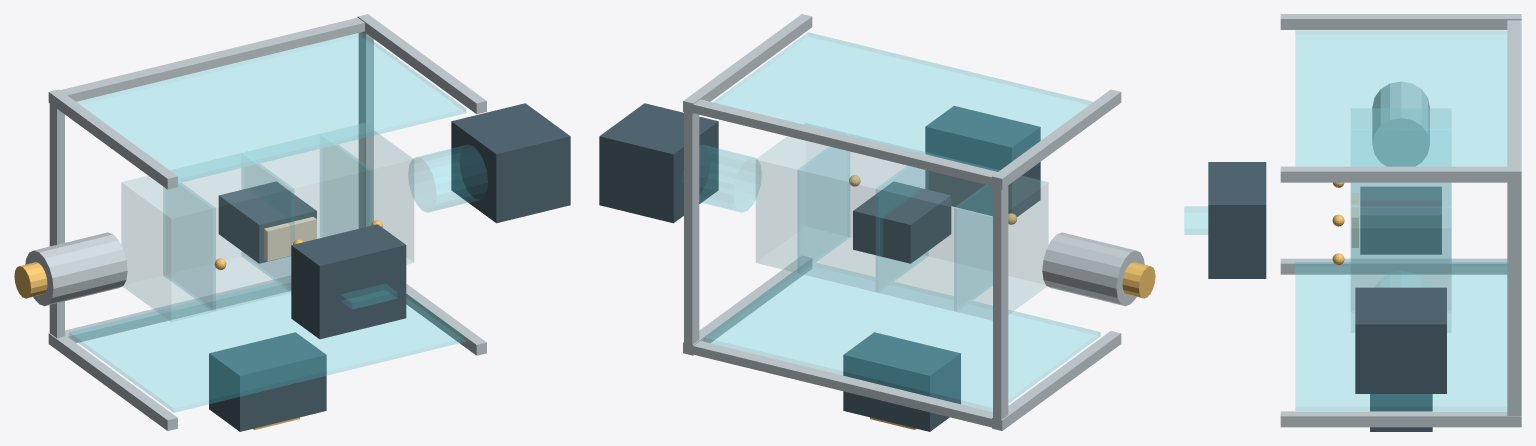
File: SLIP-MAP-optical-gate.glb
The picture shows the model from 3 angles, left to right: view 1: azimuth 30°, elevation 25°; view 2: azimuth 150°, elevation 25°; view 3: azimuth 270°, elevation 25°; orthographic projection.
Parts seen in each view (by area): view 1: window, dark, duct, frame, target, source; view 2: window, duct, frame, dark, source; view 3: window, frame, dark, duct, target.
Boxes of the visible parts, <box> form: window: <box>69,32,487,412</box>; dark: <box>209,103,570,431</box>; duct: <box>121,123,413,321</box>; frame: <box>25,14,486,430</box>; target: <box>264,216,316,261</box>; source: <box>14,220,382,429</box>; window: <box>682,32,1100,411</box>; duct: <box>756,123,1048,320</box>; frame: <box>683,14,1144,430</box>; dark: <box>599,103,1040,431</box>; source: <box>849,175,1155,429</box>; window: <box>1184,30,1506,410</box>; frame: <box>1280,14,1521,427</box>; dark: <box>1208,162,1446,431</box>; duct: <box>1351,108,1451,332</box>; target: <box>1351,193,1358,247</box>.
Bounding box in the file's own units: 255 × 149 × 140.
